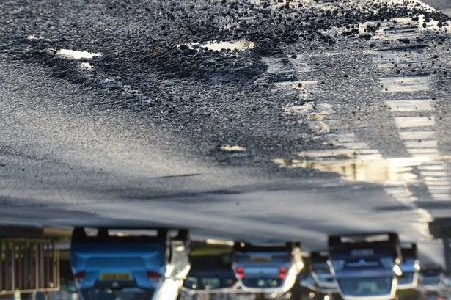pothole: (161, 36, 267, 79), (28, 47, 114, 91), (217, 143, 247, 155)
